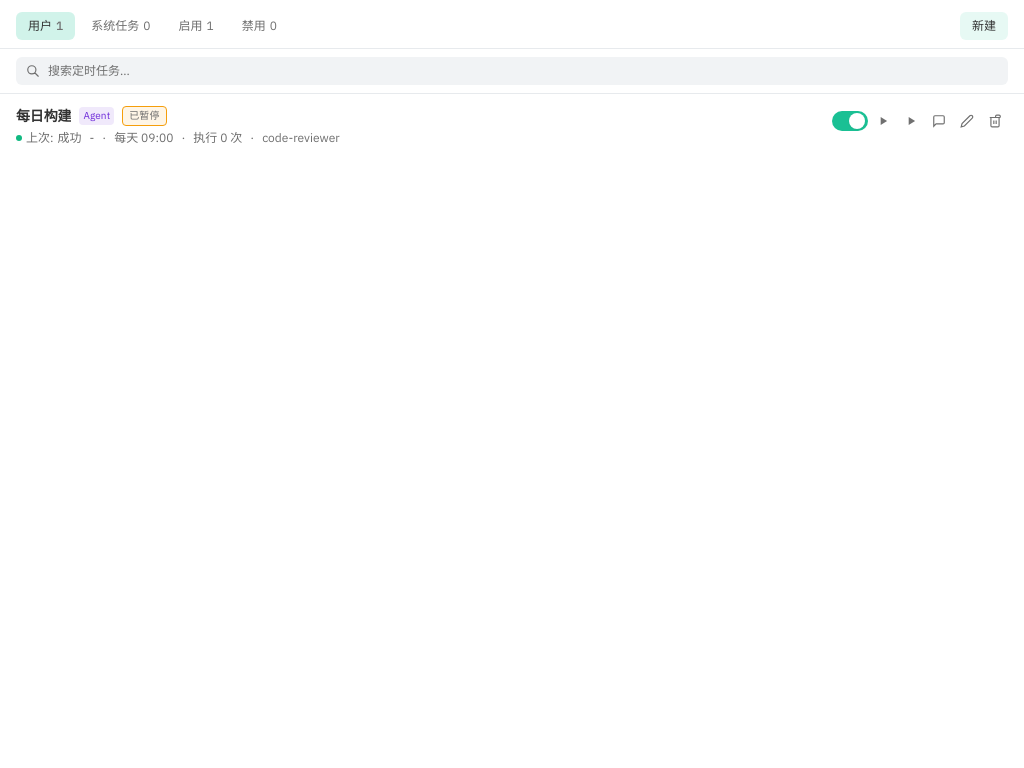
Test: 暂停 / 恢复 › 恢复失败不静默：原因同样进入错误通道
Click the button named "恢复" at (883, 121), box top-left (870, 108), bottom-right (896, 134)
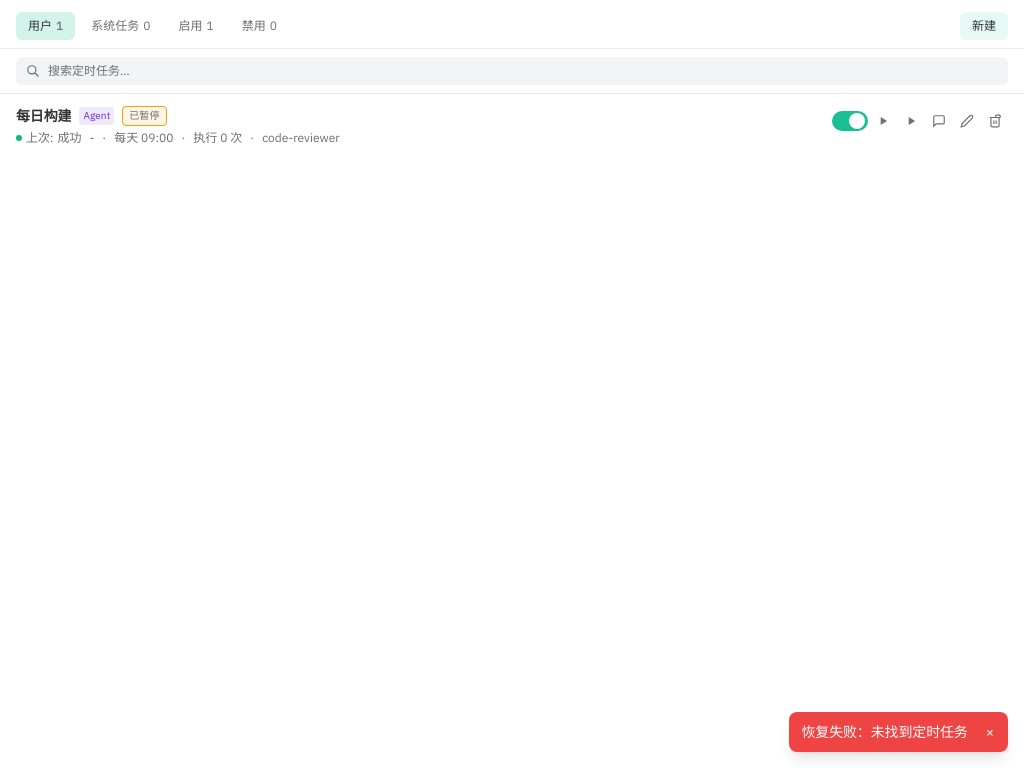
Check: the message shows "恢复失败", box top-left (801, 723), bottom-right (968, 741)
Check: the message shows "未找到定时任务", box top-left (801, 723), bottom-right (968, 741)
